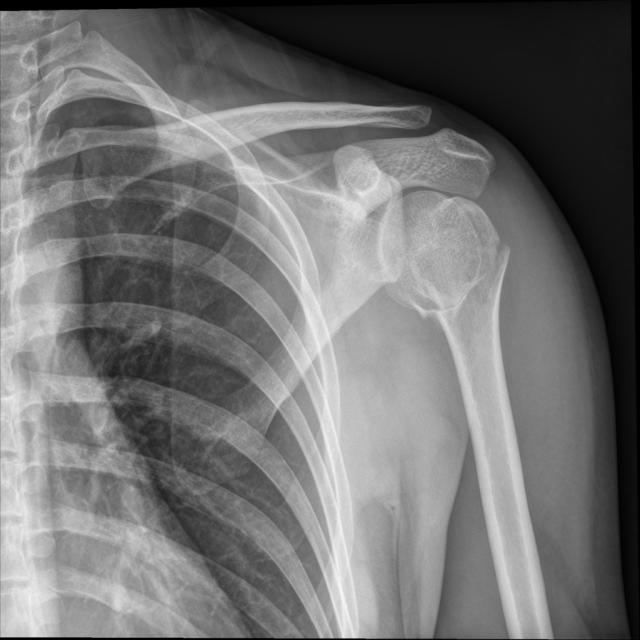Fracture: (297, 66, 523, 333)
